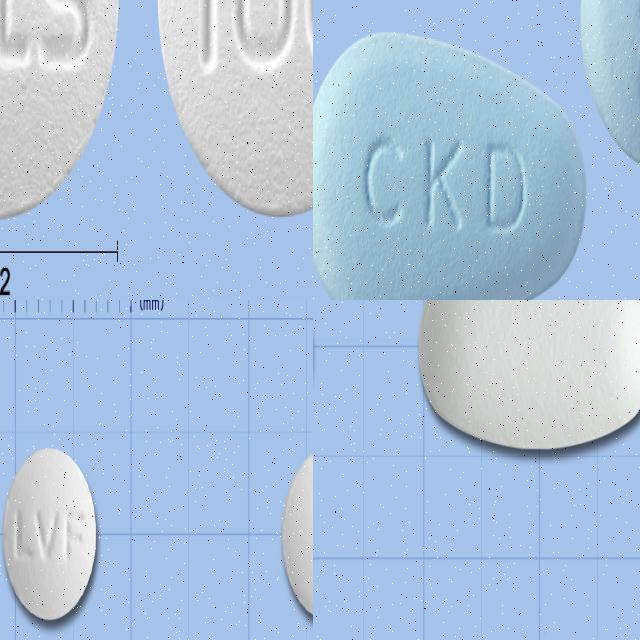Highloxin - 500mg: (157, 0, 313, 217), (0, 0, 121, 217)
Levo-F: (3, 446, 96, 623), (282, 445, 313, 620)
Moxicle: (419, 300, 640, 448)
Teva Azathioprine Tab: (313, 26, 586, 300)
